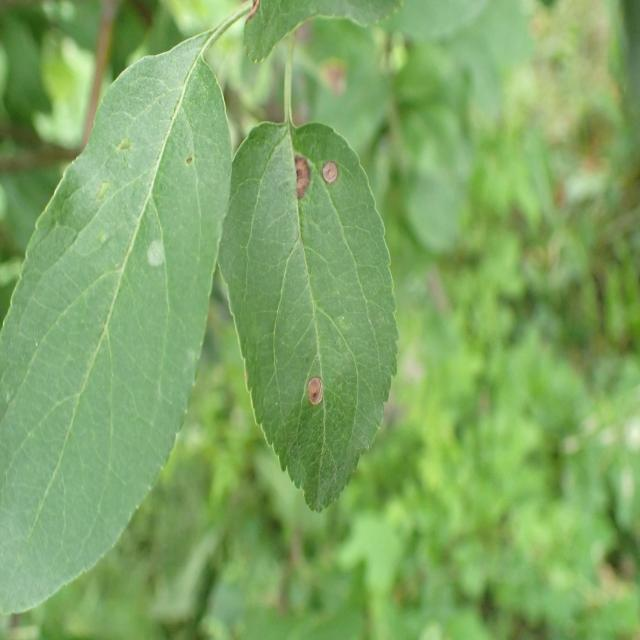Black Rot: (278, 148, 316, 224), (292, 366, 324, 431), (316, 148, 344, 203)
